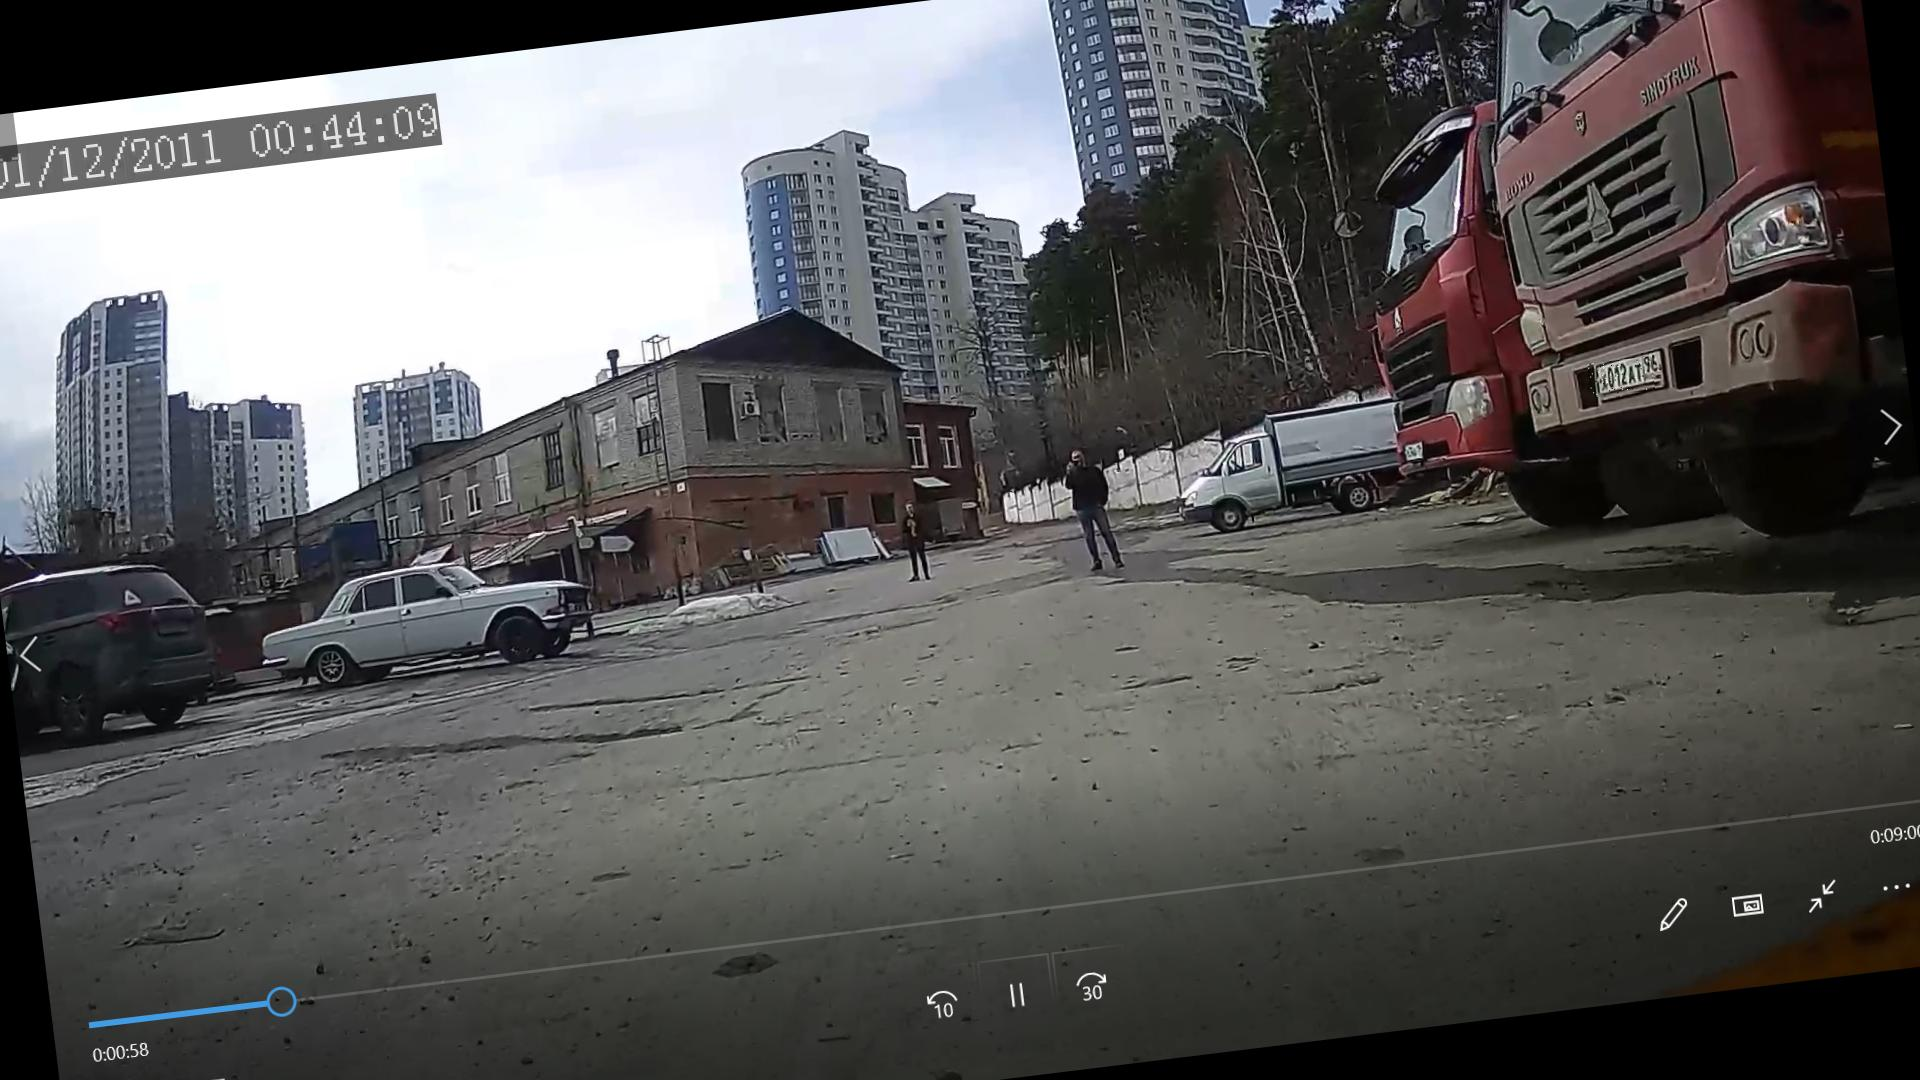plate: (1589, 357, 1657, 399)
